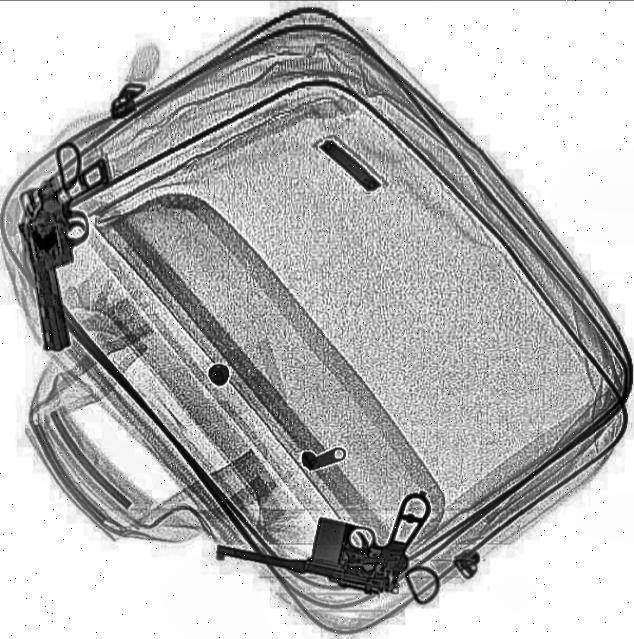Gun: (212, 459, 435, 600), (10, 156, 126, 352)
